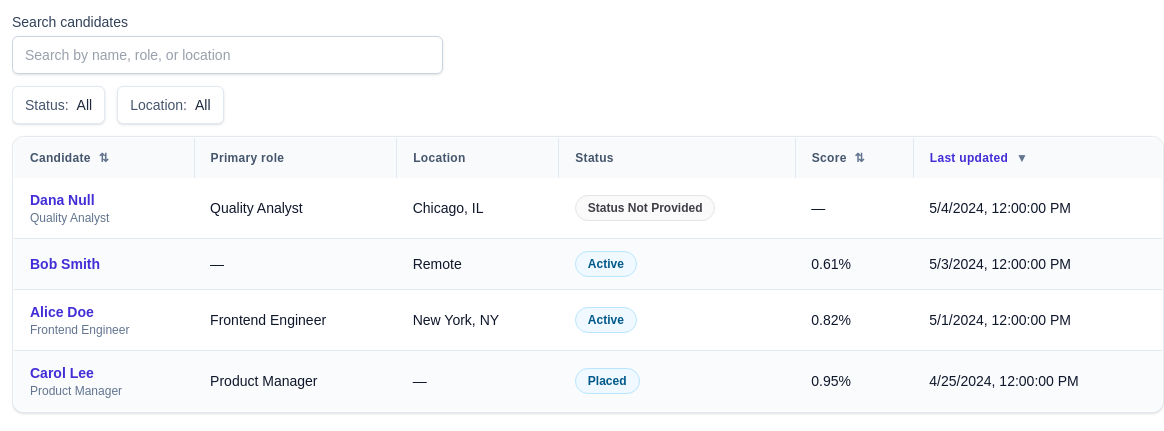
Test: CandidateTable › filters rows when the search query is updated and shows an empty state
In the search field with placeholder "Search by name, role, or location": point(227, 55) [12,36,442,74], type "smith"
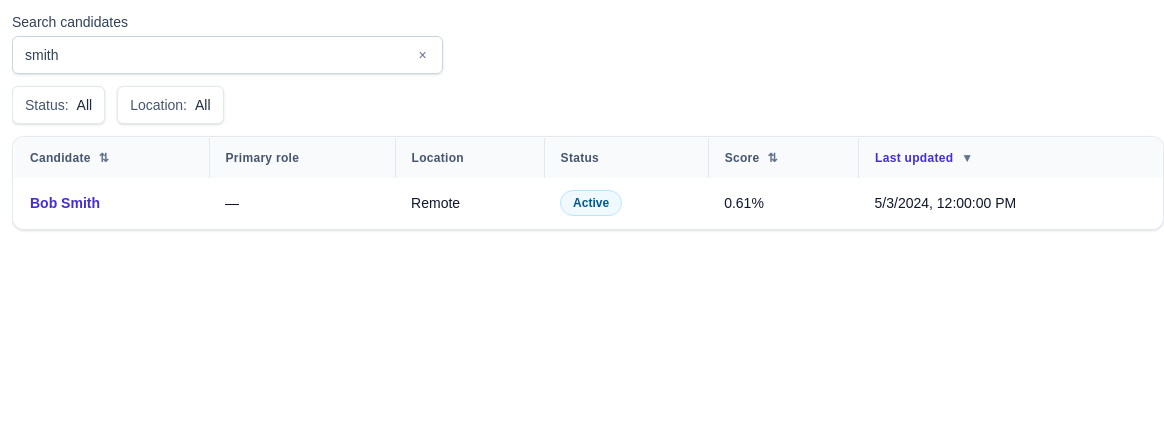
Replace the text in the search field with placeholder "Search by name, role, or location" with "does-not-exist": point(227, 55) [12,36,442,74]
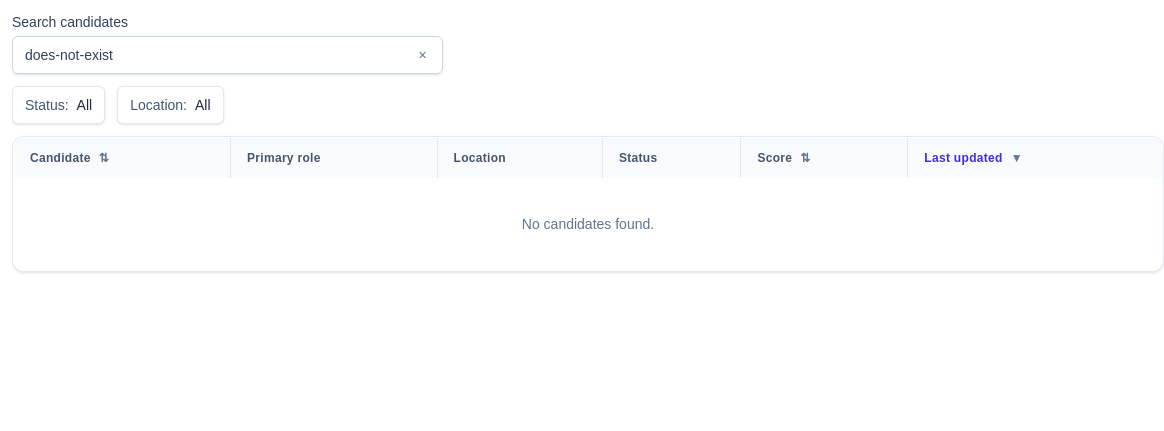
Expected: the text "No candidates found." is shown, [522,216,654,232]
